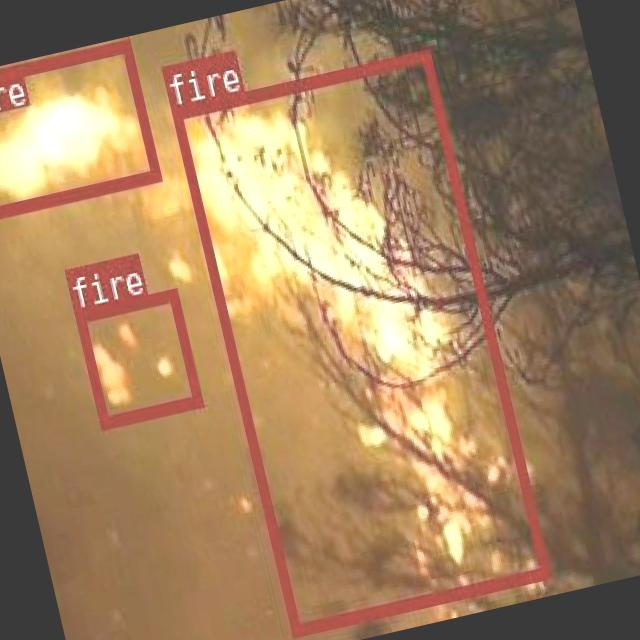fire: (170, 49, 548, 636), (0, 36, 159, 219), (72, 287, 202, 426)
